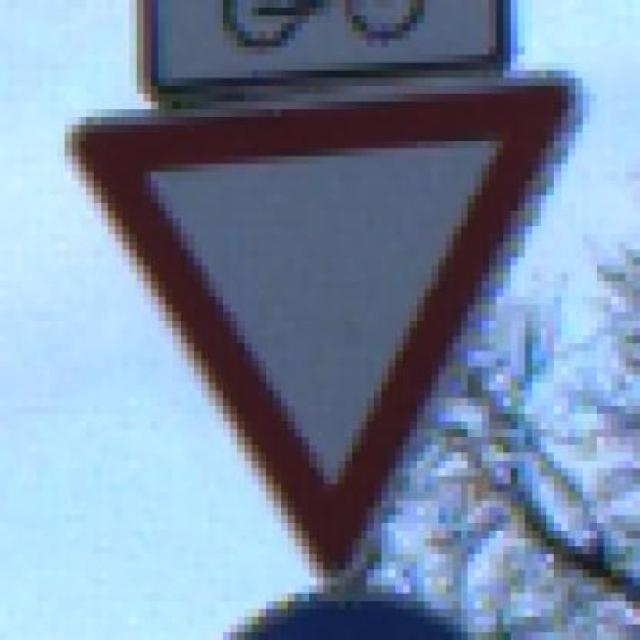Give Way: (58, 54, 590, 600)
